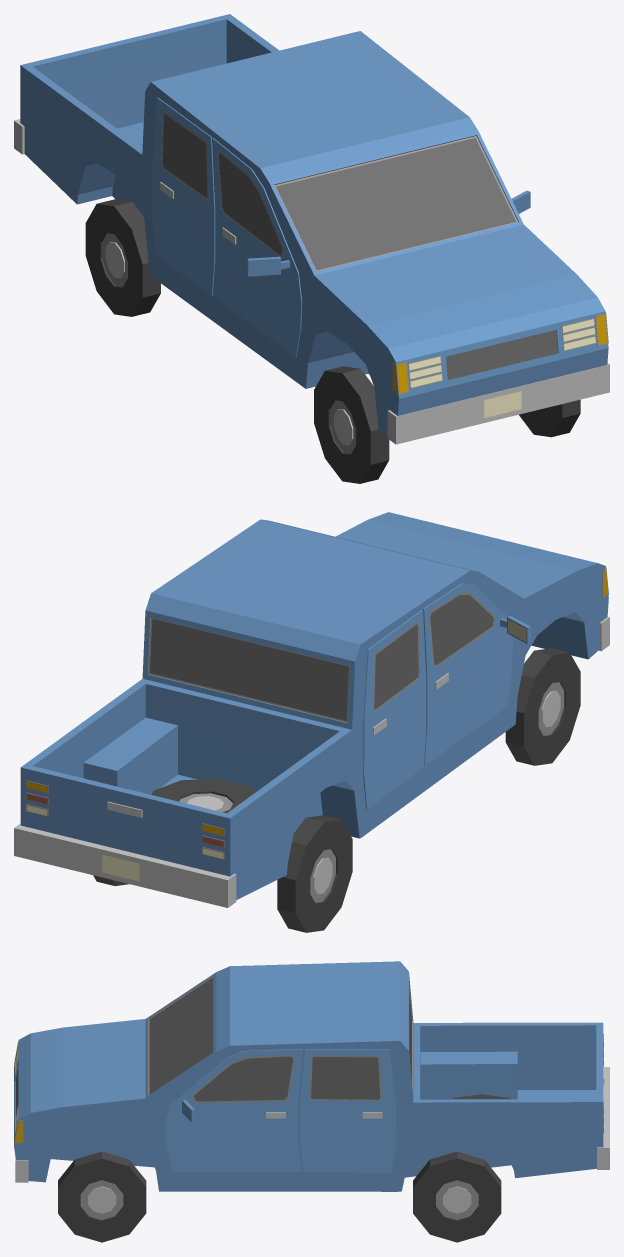
The model's file is pickup.fbx.
3 renders of one model, top to bottom at view 1: azimuth 30°, elevation 25°; view 2: azimuth 150°, elevation 25°; view 3: azimuth 270°, elevation 25°, orthographic. The views are drawn at different scales.
Visible parts, largest first — view 1: df, Cylinder_2_3, Cylinder_2_1, Cylinder_2_2; view 2: df, Cylinder_2_1, Cylinder_2_3; view 3: df, Cylinder_2_2, Cylinder_2.
Part boxes in pixels (x1=…): df: x1=14, y1=14, x2=609, y2=444; Cylinder_2_3: x1=314, y1=366, x2=389, y2=483; Cylinder_2_1: x1=85, y1=199, x2=160, y2=316; Cylinder_2_2: x1=519, y1=399, x2=580, y2=437; df: x1=14, y1=512, x2=609, y2=907; Cylinder_2_1: x1=277, y1=815, x2=352, y2=932; Cylinder_2_3: x1=505, y1=648, x2=580, y2=765; df: x1=14, y1=961, x2=609, y2=1191; Cylinder_2_2: x1=58, y1=1151, x2=146, y2=1242; Cylinder_2: x1=413, y1=1151, x2=501, y2=1242.
Bounding box in the file's own units: 156 × 137 × 367.
